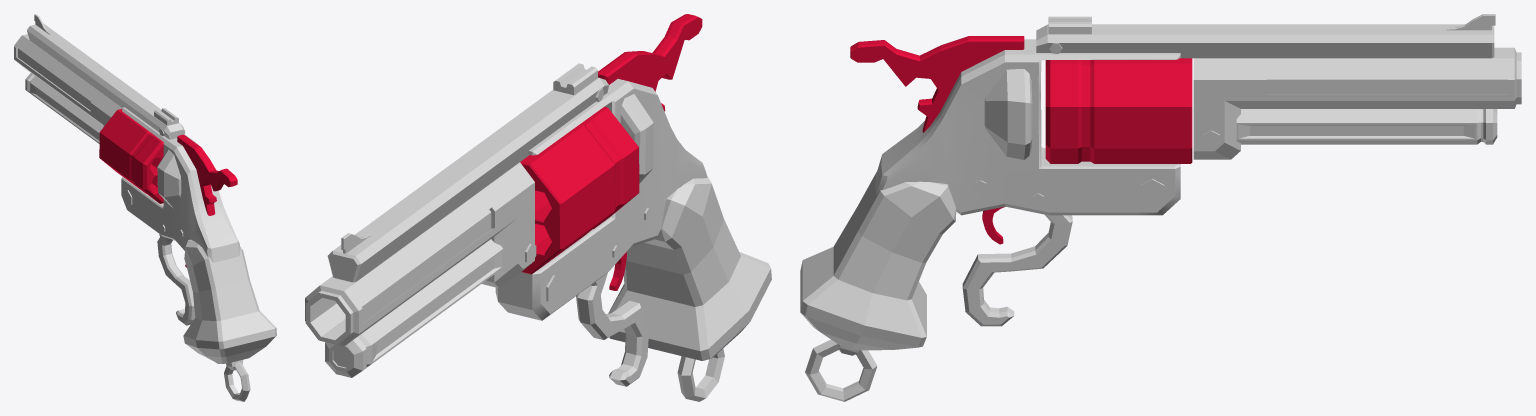
The model's file is REVOLVER_LOW 1.fbx.
3 views of the same model, side by side, from view 1: azimuth 30°, elevation 25°; view 2: azimuth 150°, elevation 25°; view 3: azimuth 270°, elevation 25° (orthographic). The views are drawn at different scales.
Parts seen in each view (by area): view 1: Cube.001, Cylinder, Cube.010; view 2: Cube.001, Cylinder, Cube.010; view 3: Cube.001, Cylinder, Cube.010.
Part boxes in pixels (left/top/right/bottom): Cube.001: left=14, top=14, right=276, bottom=401; Cylinder: left=99, top=109, right=163, bottom=203; Cube.010: left=177, top=134, right=237, bottom=215; Cube.001: left=305, top=63, right=771, bottom=401; Cylinder: left=520, top=106, right=639, bottom=274; Cube.010: left=598, top=14, right=702, bottom=111; Cube.001: left=800, top=14, right=1521, bottom=401; Cylinder: left=1045, top=58, right=1192, bottom=163; Cube.010: left=850, top=36, right=1024, bottom=132.
Bounding box in the file's own units: 0.3511 × 1.95 × 1.16.
